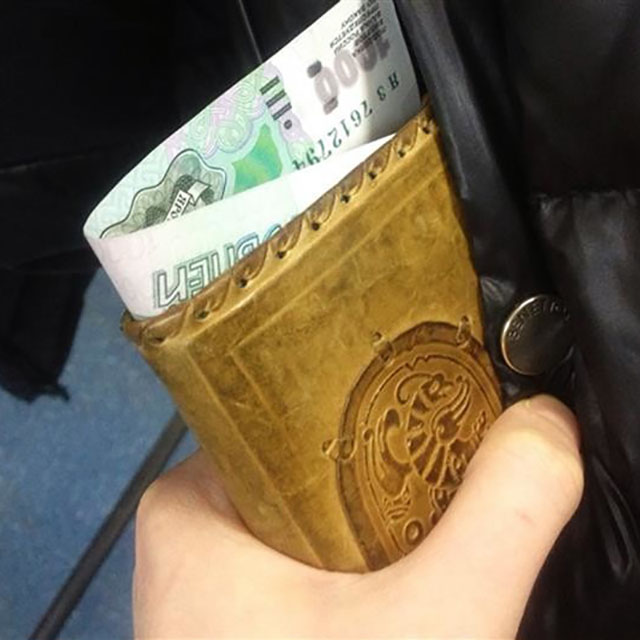banknotes: (79, 1, 421, 323)
